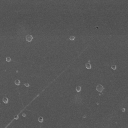corrosion: (94, 82, 105, 93), (24, 34, 35, 44), (73, 84, 83, 93), (4, 55, 13, 64), (109, 62, 118, 71), (13, 78, 21, 87), (1, 96, 9, 105), (36, 115, 44, 123), (84, 62, 92, 70), (67, 34, 76, 41), (13, 114, 19, 120), (24, 82, 30, 88)
